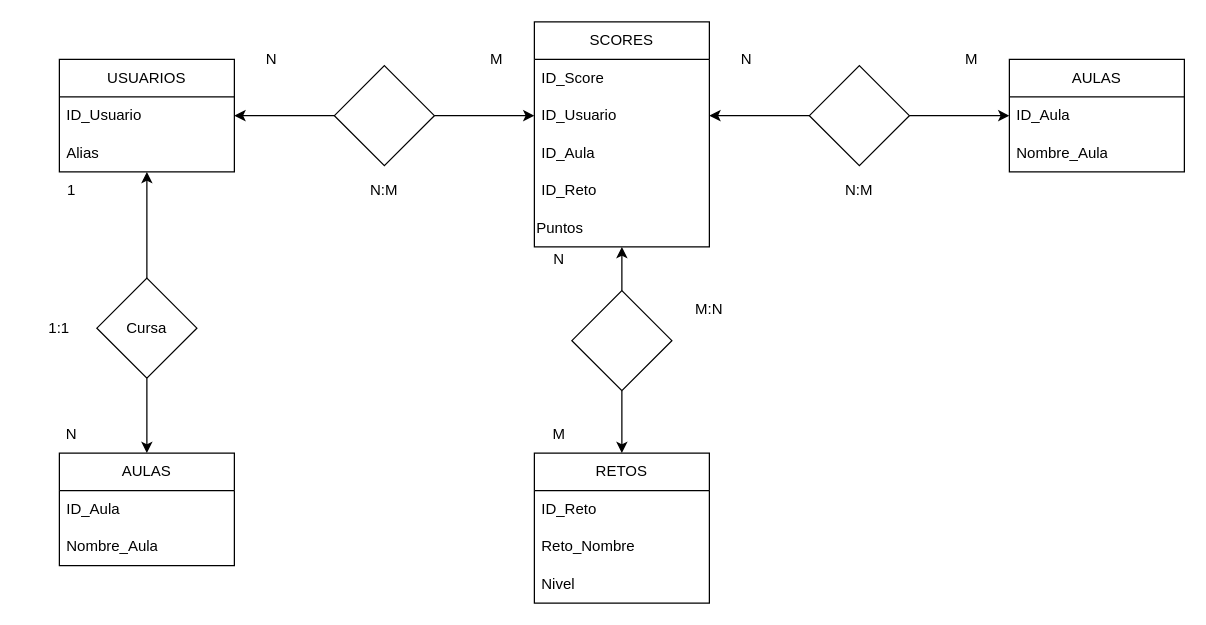
Some shapes in this 1206 by 625 pixel diagram are drawn without their labels. The shapes that lost their labels are listed below. From the top down, each one's centre as x and y in pixels, then its label:
At (383,115): "Puntúa".
At (858,115): "Realizado en".
At (621,340): "Pertenece".
